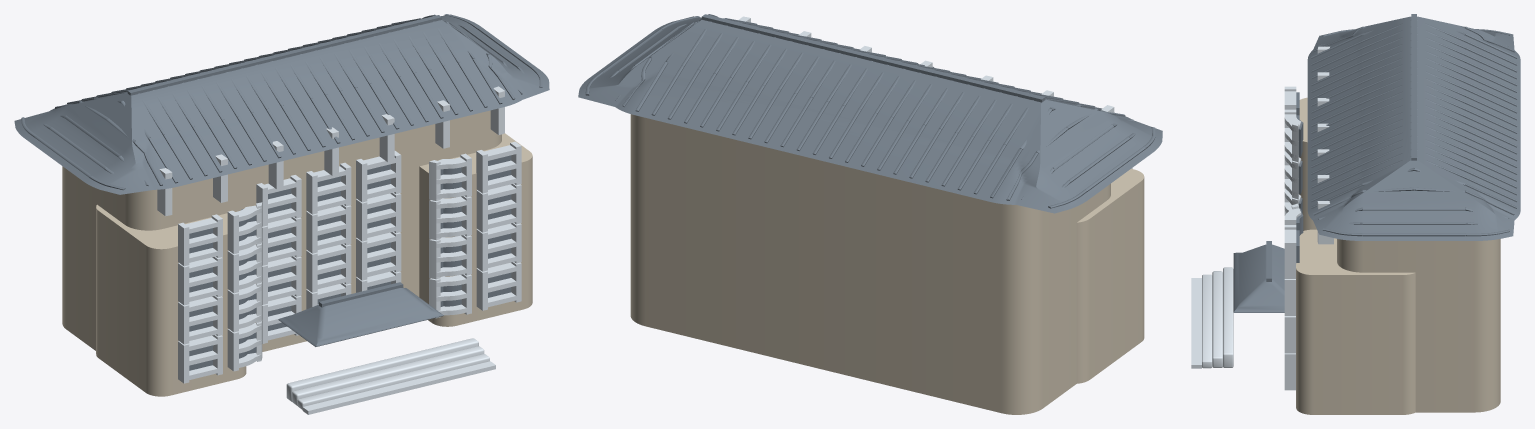
Rendered from preserved-addon.glb.
3 views of the same model, side by side, from view 1: azimuth 30°, elevation 25°; view 2: azimuth 150°, elevation 25°; view 3: azimuth 270°, elevation 25° (orthographic). The views are drawn at different scales.
Visible parts, largest first — view 1: Library_broad_roof, Library_core, Library_side_-1, Library_broad_roof__RoofTileRelief, Library_side_1, Library_entry_canopy, Library_broad_roof_ridge, Library_steps_3, Library_steps_2, Library_steps_0, Library_steps_1, Library_entry_canopy_ridge (+6 smaller); view 2: Library_core, Library_broad_roof, Library_broad_roof__RoofTileRelief, Library_side_-1, Library_broad_roof_ridge; view 3: Library_broad_roof, Library_side_1, Library_core, Library_broad_roof__RoofTileRelief, Library_entry_canopy, Library_steps_3, Library_steps_2, Library_steps_1, Library_steps_0, Library_side_-1, Library_broad_roof_ridge, Library_window(3, 6)_jamb1 (+3 smaller).
Boxes of the visible parts, x1,y1,x2,y2 form: Library_broad_roof: (14, 14, 549, 194); Library_core: (62, 110, 501, 351); Library_side_-1: (96, 204, 246, 396); Library_broad_roof__RoofTileRelief: (21, 14, 542, 190); Library_side_1: (419, 133, 532, 326); Library_entry_canopy: (278, 287, 443, 346); Library_broad_roof_ridge: (127, 15, 441, 95); Library_steps_3: (286, 338, 478, 401); Library_steps_2: (292, 346, 484, 405); Library_steps_0: (302, 361, 495, 414); Library_steps_1: (297, 354, 489, 409); Library_entry_canopy_ridge: (319, 282, 403, 307); Library_core: (630, 114, 1110, 414); Library_broad_roof: (578, 16, 1162, 213); Library_broad_roof__RoofTileRelief: (585, 14, 1155, 208); Library_side_-1: (1076, 168, 1144, 383); Library_broad_roof_ridge: (701, 14, 1045, 102); Library_broad_roof: (1307, 16, 1520, 240); Library_side_1: (1296, 229, 1415, 414); Library_core: (1337, 239, 1500, 412); Library_broad_roof__RoofTileRelief: (1311, 20, 1517, 236); Library_entry_canopy: (1233, 244, 1284, 312); Library_steps_3: (1223, 267, 1233, 367); Library_steps_2: (1212, 271, 1222, 367); Library_steps_1: (1202, 274, 1212, 368); Library_steps_0: (1191, 278, 1201, 368); Library_side_-1: (1299, 97, 1316, 230); Library_broad_roof_ridge: (1411, 14, 1416, 160); Library_window(3, 6)_jamb1: (1284, 240, 1296, 278).
Size of the model in its own units: 3.08 by 1.63 by 2.03.
